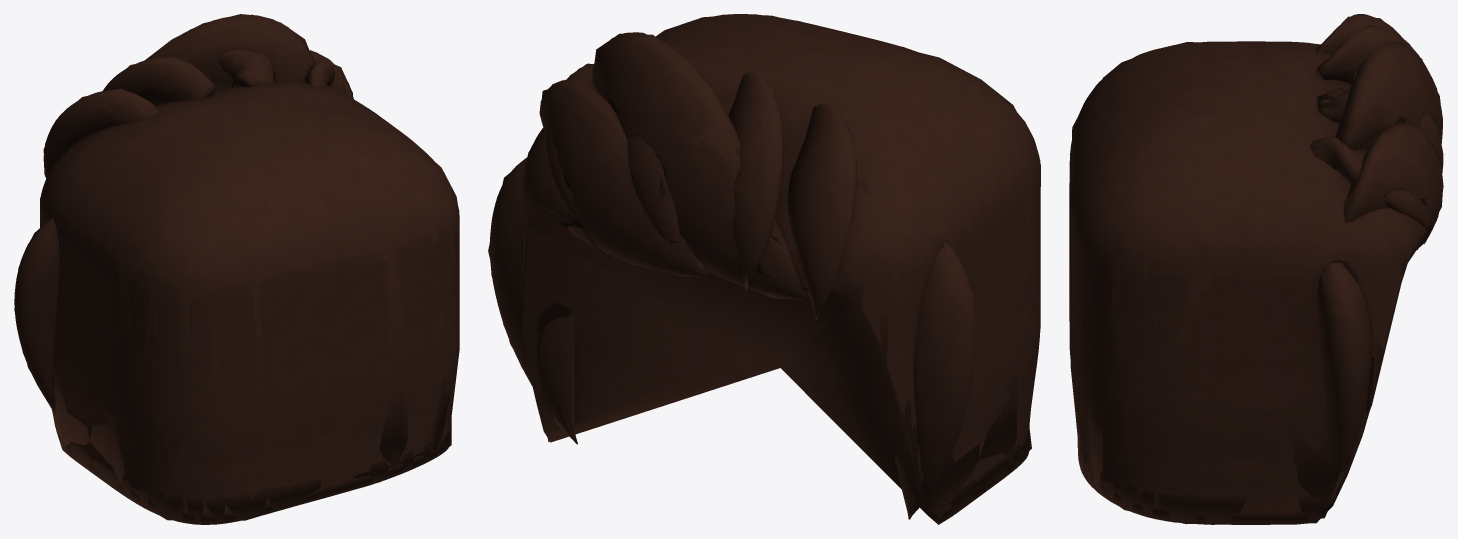
File: bob.glb
3 renders of one model, left to right at view 1: azimuth 30°, elevation 25°; view 2: azimuth 150°, elevation 25°; view 3: azimuth 270°, elevation 25°, orthographic. The views are drawn at different scales.
Parts seen in each view (by area): view 1: near, mid, far; view 2: near, far, mid; view 3: near, mid, far.
Boxes of the visible parts, left/top/right/bottom form: near: left=14, top=15, right=459, bottom=524; mid: left=14, top=14, right=459, bottom=524; far: left=14, top=14, right=459, bottom=520; near: left=490, top=14, right=1040, bottom=524; far: left=488, top=14, right=1040, bottom=519; mid: left=489, top=14, right=1040, bottom=524; near: left=1069, top=14, right=1443, bottom=524; mid: left=1069, top=14, right=1443, bottom=524; far: left=1070, top=16, right=1443, bottom=524.
Bounding box in the file's own units: 1.3 × 1.22 × 0.994.
1 material, 1 textured.
